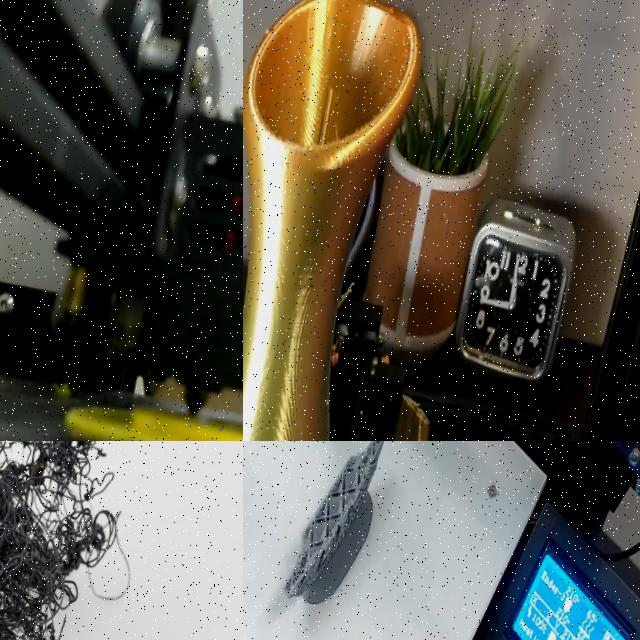spaghetti: (333, 278, 362, 310)
